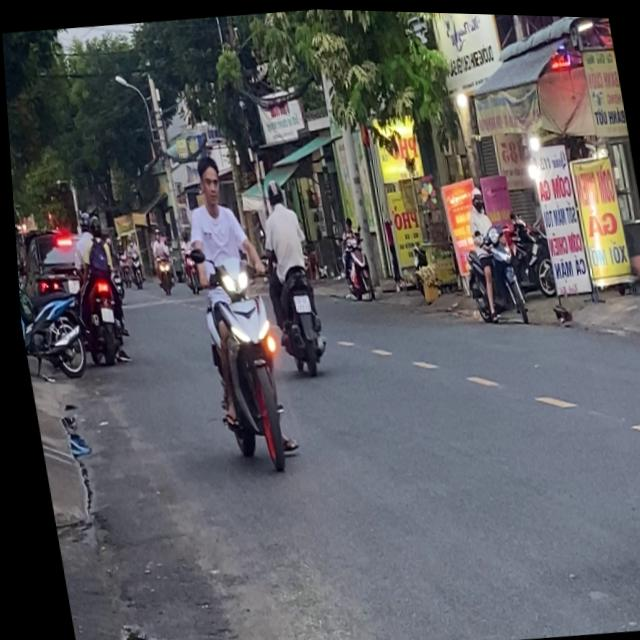helmet: (190, 152, 222, 207), (261, 173, 283, 206), (466, 182, 482, 209)
licenseplate: (168, 146, 294, 473), (245, 171, 327, 374), (448, 178, 525, 324)
motorcyclist: (190, 152, 222, 207)
nohelmet: (288, 291, 306, 309)
